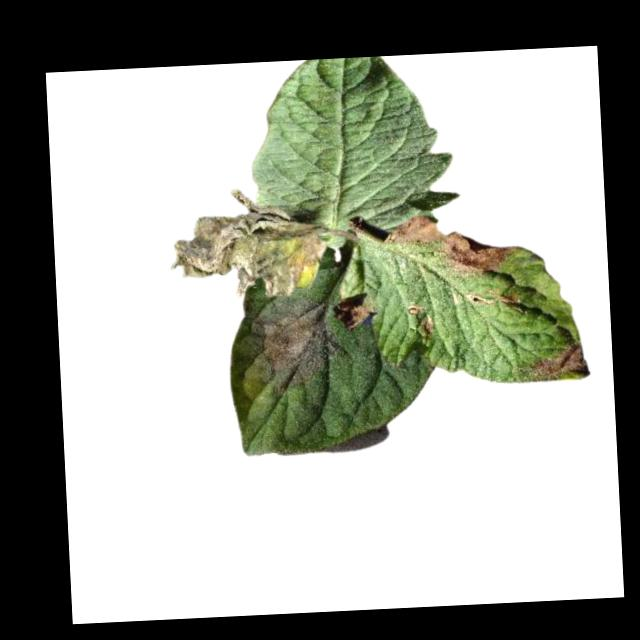Late_blight: (169, 182, 334, 301), (383, 209, 520, 281), (247, 295, 337, 399), (515, 337, 591, 383), (332, 288, 377, 331), (466, 285, 524, 310), (404, 300, 434, 342)
healthy: (249, 52, 459, 231)
